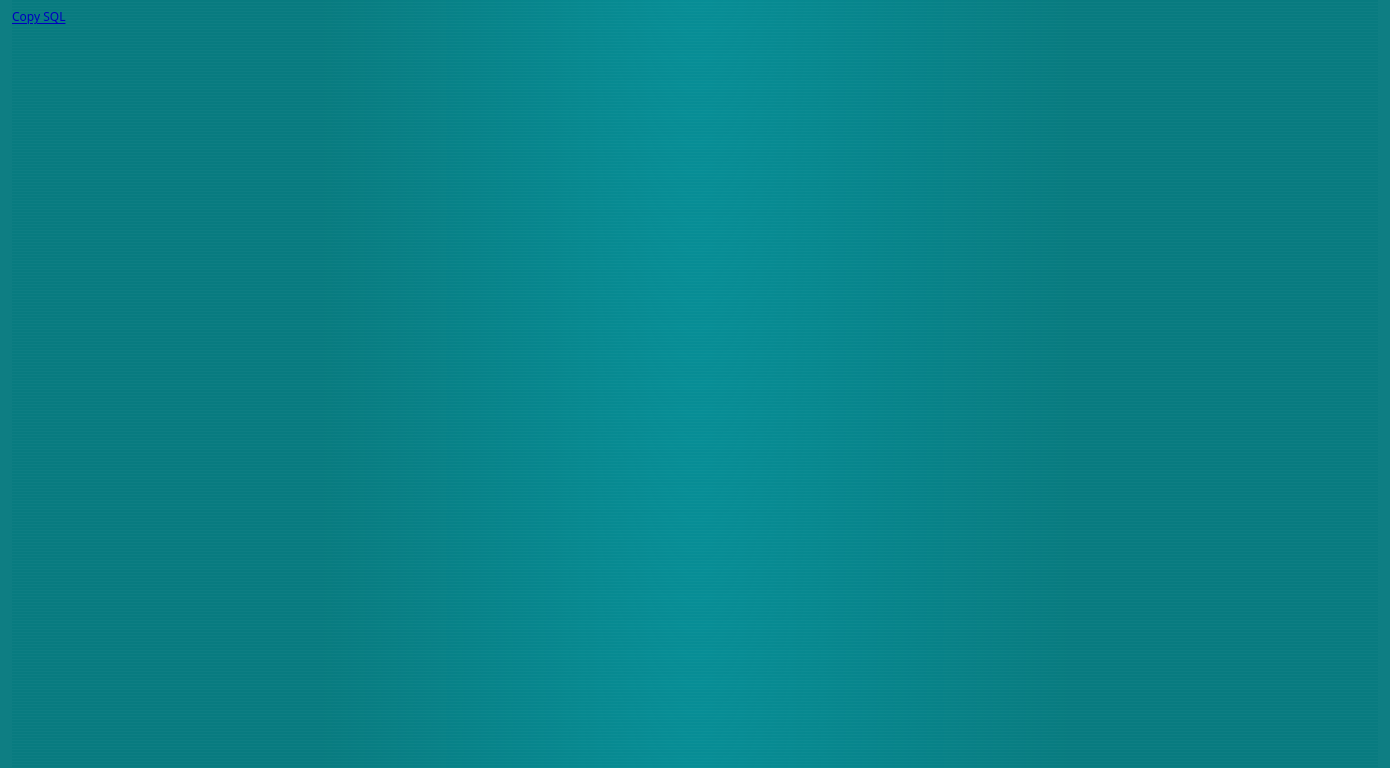
Test case: copy SQL › announces clipboard failure and offers a selectable fallback
This screenshot has width=1390, height=768.
Later steps or results of the test are not shown.
Click the button "Copy SQL" at (39, 17), box [12,6,66,27]
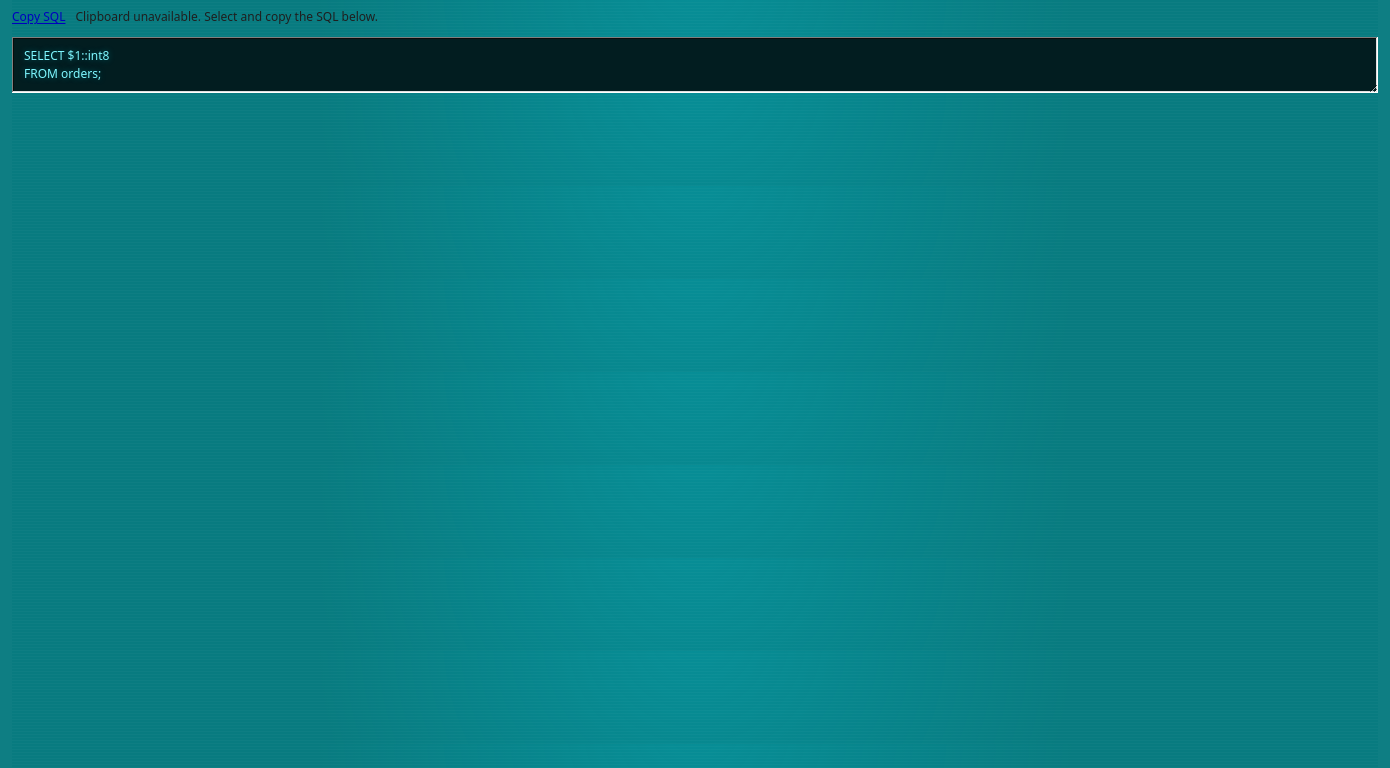
expect the message shows "Clipboard unavailable.": met, box [76,8,378,25]
